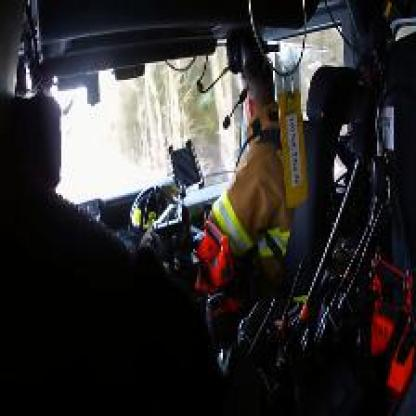other: (337, 264, 412, 383), (187, 220, 233, 285)
